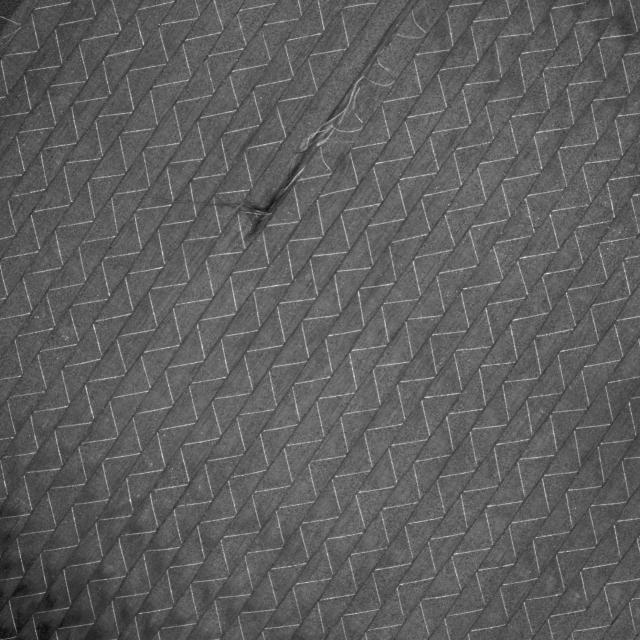carbon-fibre-defect: (222, 28, 411, 262)
